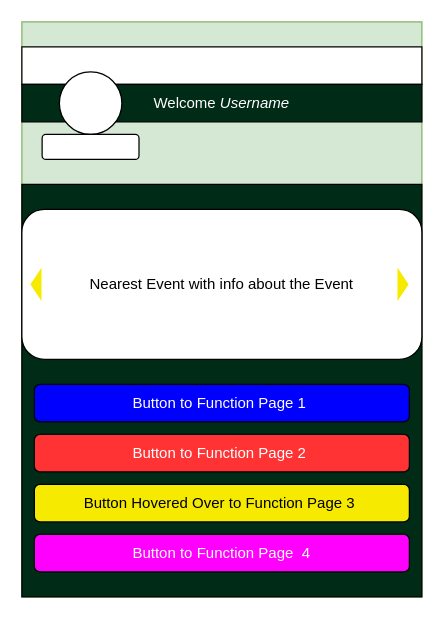
This 444x619 diagram has some shape labels left out. The shapes that lost their labels are listed below. From the top down, each one's centre as x and y in pixels, then its label:
(x=221, y=65): CadetLink
(x=90, y=102): Profile pic
(x=90, y=146): LogOut
